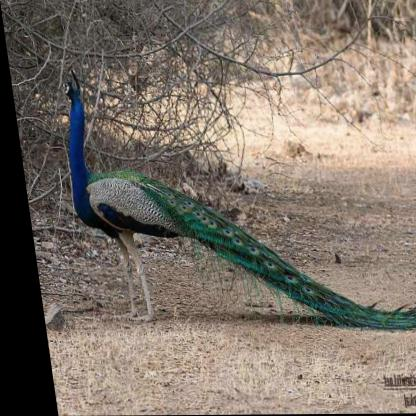Burung: (53, 65, 415, 320)
